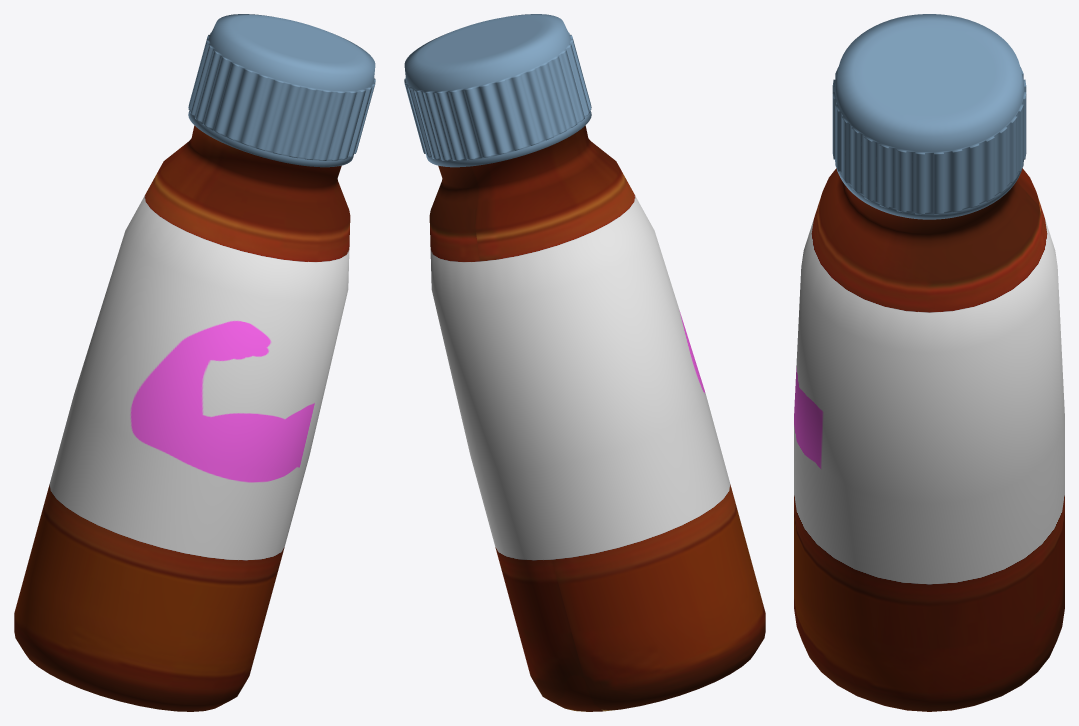
Rendered from bottel_Animation.fbx.
3 views of the same model, side by side, from view 1: azimuth 30°, elevation 25°; view 2: azimuth 150°, elevation 25°; view 3: azimuth 270°, elevation 25° (orthographic). The views are drawn at different scales.
Parts seen in each view (by area): view 1: bottle_geo; view 2: bottle_geo; view 3: bottle_geo.
Boxes of the visible parts, <box> form: bottle_geo: <box>14,14,375,711</box>; bottle_geo: <box>404,14,765,711</box>; bottle_geo: <box>794,14,1064,711</box>.
Size of the model in its own units: 17.45 by 31.83 by 11.04.
